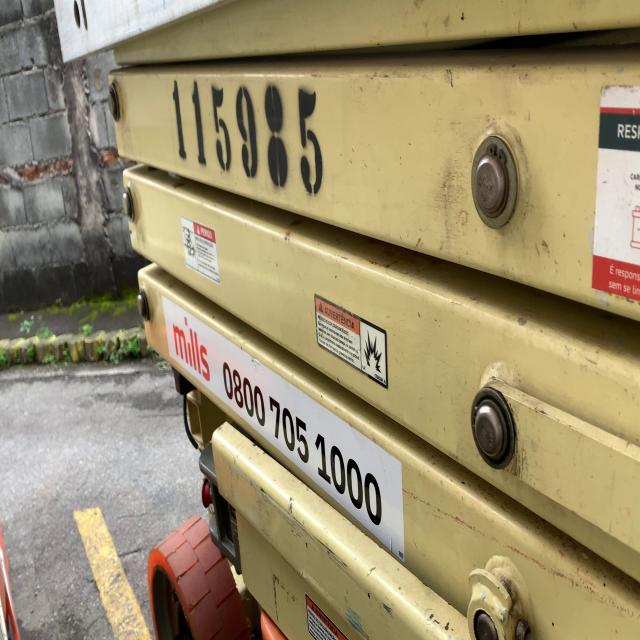Adesivo Longo: (158, 292, 408, 570)
